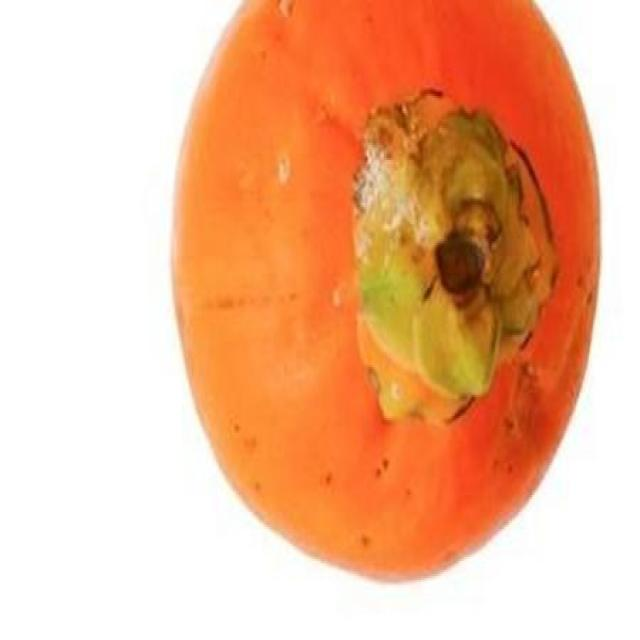good: (168, 0, 604, 587)
